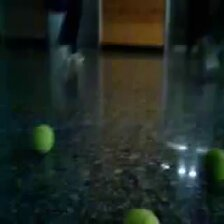tennis: (202, 148, 224, 185), (31, 124, 56, 152), (125, 208, 159, 224)
